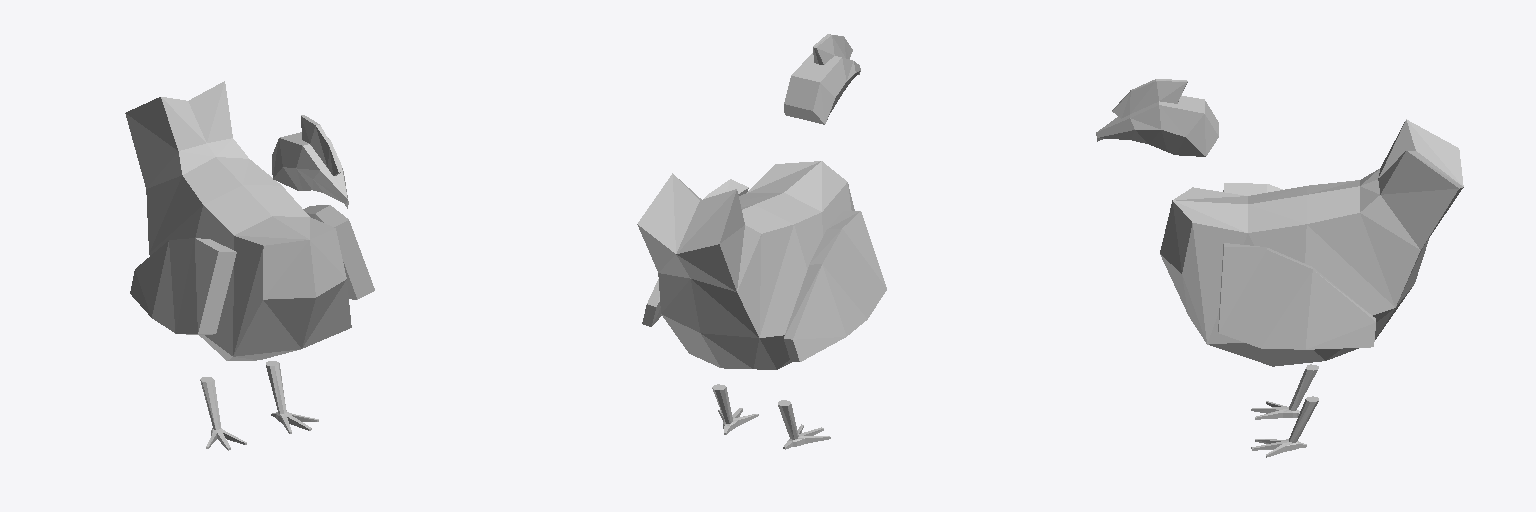
Rendered from Chicken.obj.
3 views of the same model, side by side, from view 1: azimuth 30°, elevation 25°; view 2: azimuth 150°, elevation 25°; view 3: azimuth 270°, elevation 25° (orthographic).
Visible parts, largest first — view 1: Cube; view 2: Cube; view 3: Cube.
Part boxes in pixels (left/top/right/bottom): Cube: left=125, top=81, right=374, bottom=450; Cube: left=637, top=34, right=886, bottom=449; Cube: left=1096, top=79, right=1463, bottom=457.
Size of the model in its own units: 0.2722 by 0.5004 by 0.4728.